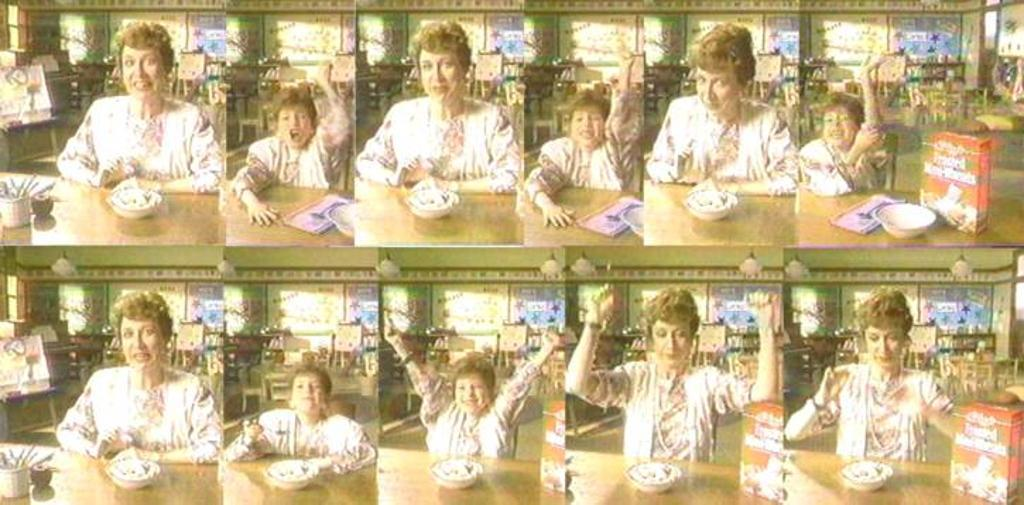face: (420, 52, 463, 106), (121, 319, 162, 371), (123, 49, 163, 100), (697, 65, 736, 116), (653, 320, 691, 368), (866, 324, 904, 368), (571, 109, 605, 149), (279, 109, 311, 148), (456, 374, 487, 414), (823, 109, 854, 148), (293, 377, 324, 414)
